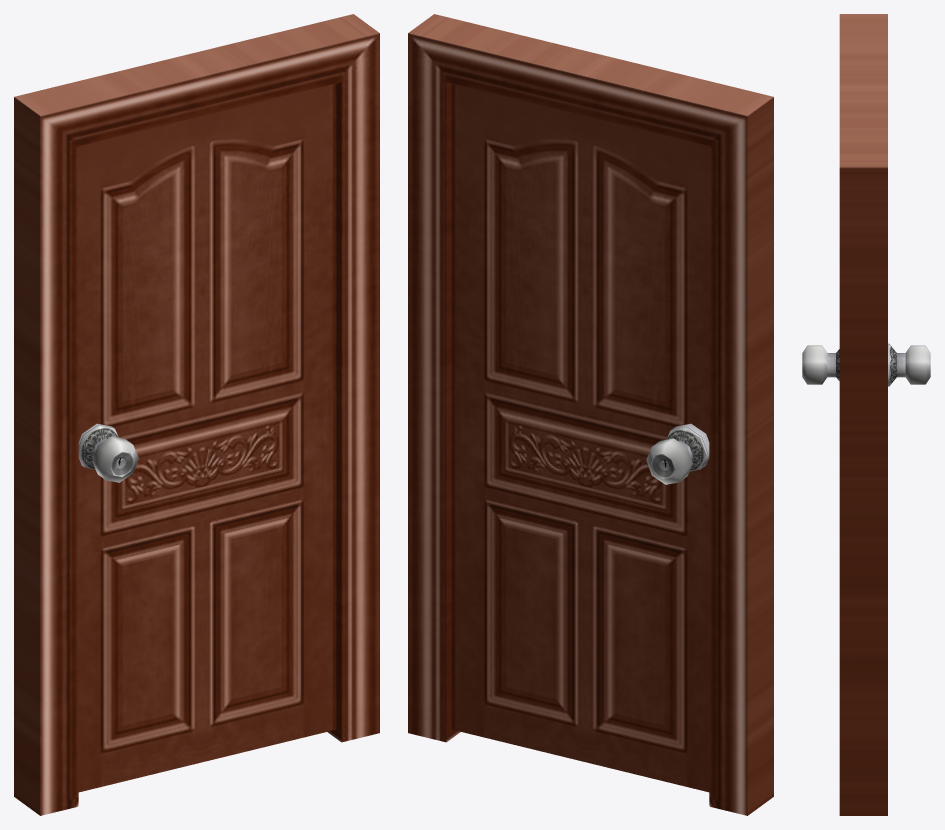
File: All_Door_B.fbx
3 renders of one model, left to right at view 1: azimuth 30°, elevation 25°; view 2: azimuth 150°, elevation 25°; view 3: azimuth 270°, elevation 25°, orthographic. The views are drawn at different scales.
Visible parts, largest first — view 1: DoorB, DootframeB, Doorknob.001; view 2: DoorB, DootframeB, Doorknob.001; view 3: DootframeB, Doorknob.001.
Boxes of the visible parts, x1,y1,x2,y2 form: DoorB: [78, 83, 336, 792]; DootframeB: [14, 14, 379, 815]; Doorknob.001: [78, 423, 138, 482]; DoorB: [451, 83, 709, 792]; DootframeB: [408, 14, 773, 815]; Doorknob.001: [646, 423, 709, 484]; DootframeB: [839, 14, 887, 815]; Doorknob.001: [802, 343, 930, 386].
Size of the model in its own units: 99.03 by 195 by 34.98.
